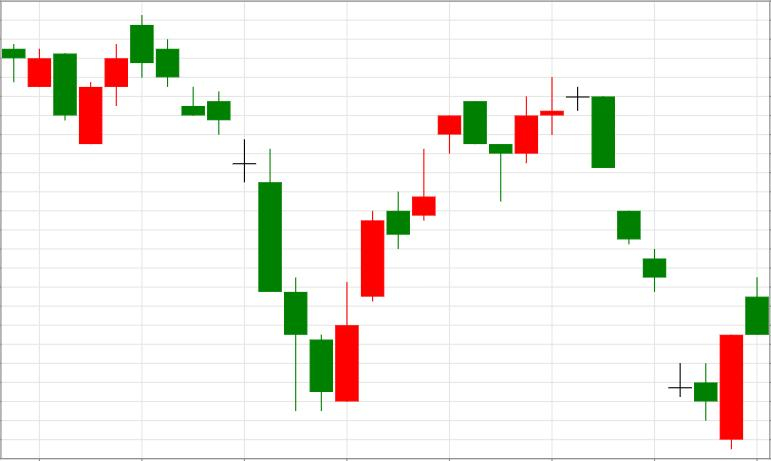bullish_engulfing_rise: (592, 96, 743, 450)
shooting_star_fall: (335, 149, 436, 402)
